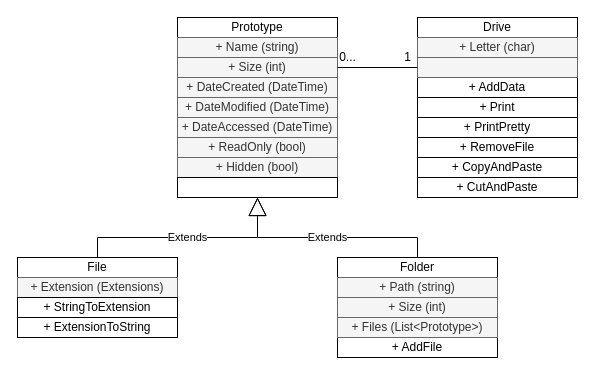
This 595x375 diagram has some shape labels left out. The shapes that lost their labels are listed below. From the top down, each one's centre as x and y in pixels, then its label:
(x=497, y=67): + Data (List<Prototype>)
(x=257, y=187): + Clone
